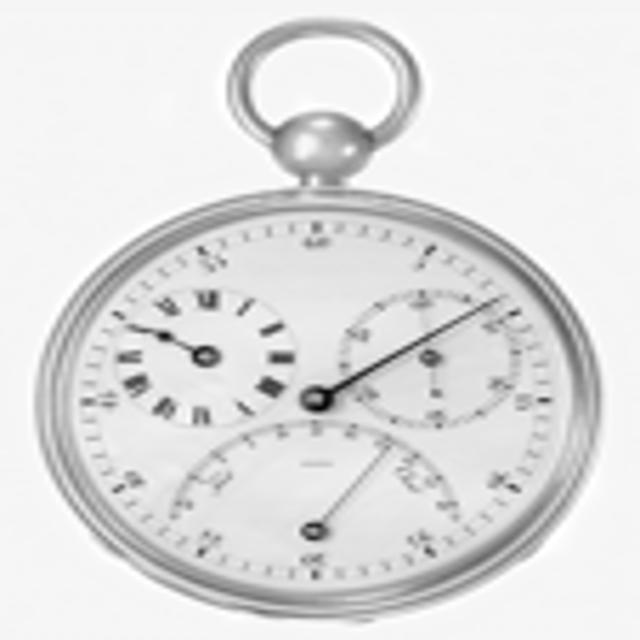number_60: (288, 213, 356, 259)
